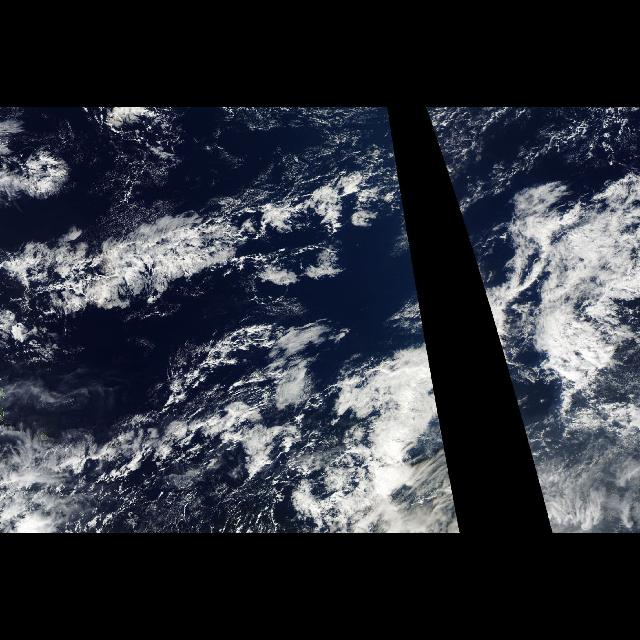Fish: (1, 133, 403, 379)
Gravel: (118, 453, 304, 533)
Sugar: (11, 208, 405, 344)
